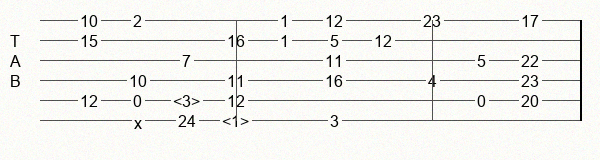0: (133, 92, 146, 108), (477, 92, 490, 108)
1: (280, 32, 293, 48), (280, 12, 293, 28)
10: (80, 12, 102, 28), (129, 72, 151, 88)
11: (227, 72, 249, 88), (325, 52, 347, 68)
12: (80, 92, 102, 108), (227, 92, 249, 108), (325, 12, 347, 28), (374, 32, 396, 48)
15: (80, 32, 102, 48)
16: (227, 32, 249, 48), (325, 72, 347, 88)
17: (521, 12, 543, 28)
2: (133, 12, 146, 28)
20: (521, 92, 543, 108)
22: (521, 52, 543, 68)
23: (423, 12, 445, 28), (521, 72, 543, 88)
24: (178, 112, 200, 128)
3: (330, 112, 343, 128)
4: (428, 72, 441, 88)
5: (330, 32, 343, 48), (477, 52, 490, 68)
7: (182, 52, 195, 68)
harmonic: (173, 92, 204, 108), (222, 112, 253, 128)
x: (134, 114, 146, 127)
